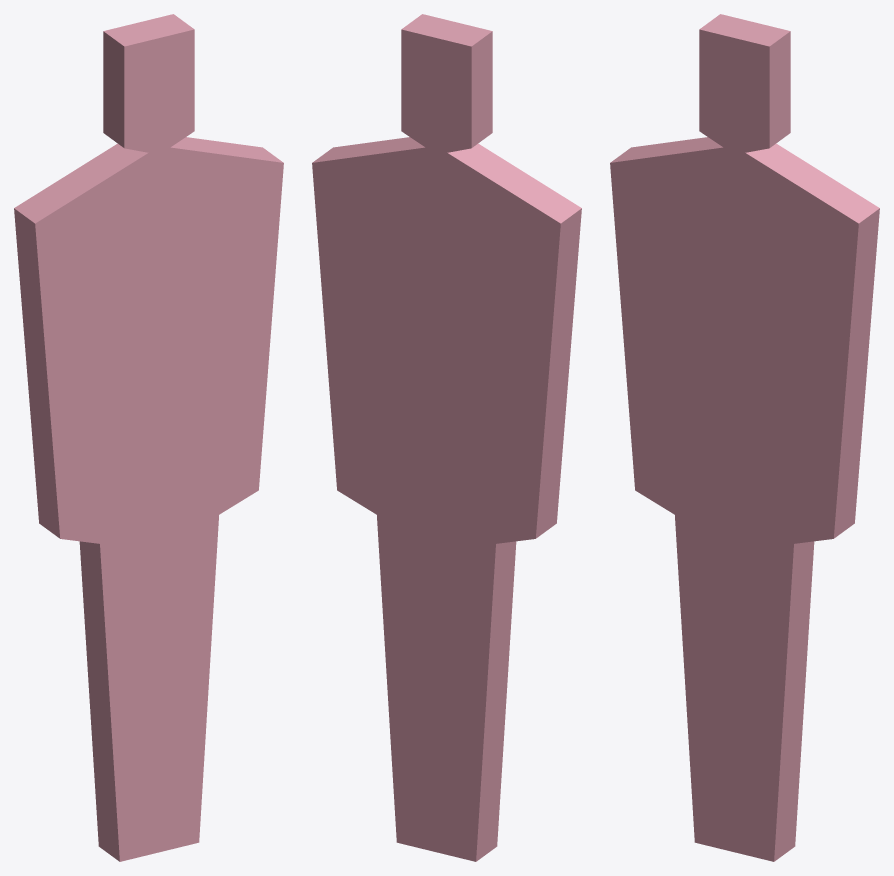
Rendered from HumanSizeRef.fbx.
3 renders of one model, left to right at view 1: azimuth 30°, elevation 25°; view 2: azimuth 150°, elevation 25°; view 3: azimuth 330°, elevation 25°, orthographic.
Parts seen in each view (by area): view 1: HumanSizeRef; view 2: HumanSizeRef; view 3: HumanSizeRef.
Part boxes in pixels (left/top/right/bottom): HumanSizeRef: left=14, top=14, right=283, bottom=861; HumanSizeRef: left=312, top=14, right=581, bottom=861; HumanSizeRef: left=610, top=14, right=879, bottom=861.
Bounding box in the file's own units: 63.96 × 200 × 9.4.
